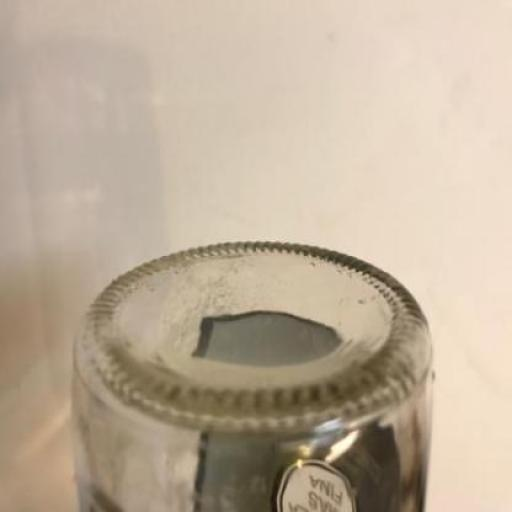glass: (74, 241, 434, 511)
